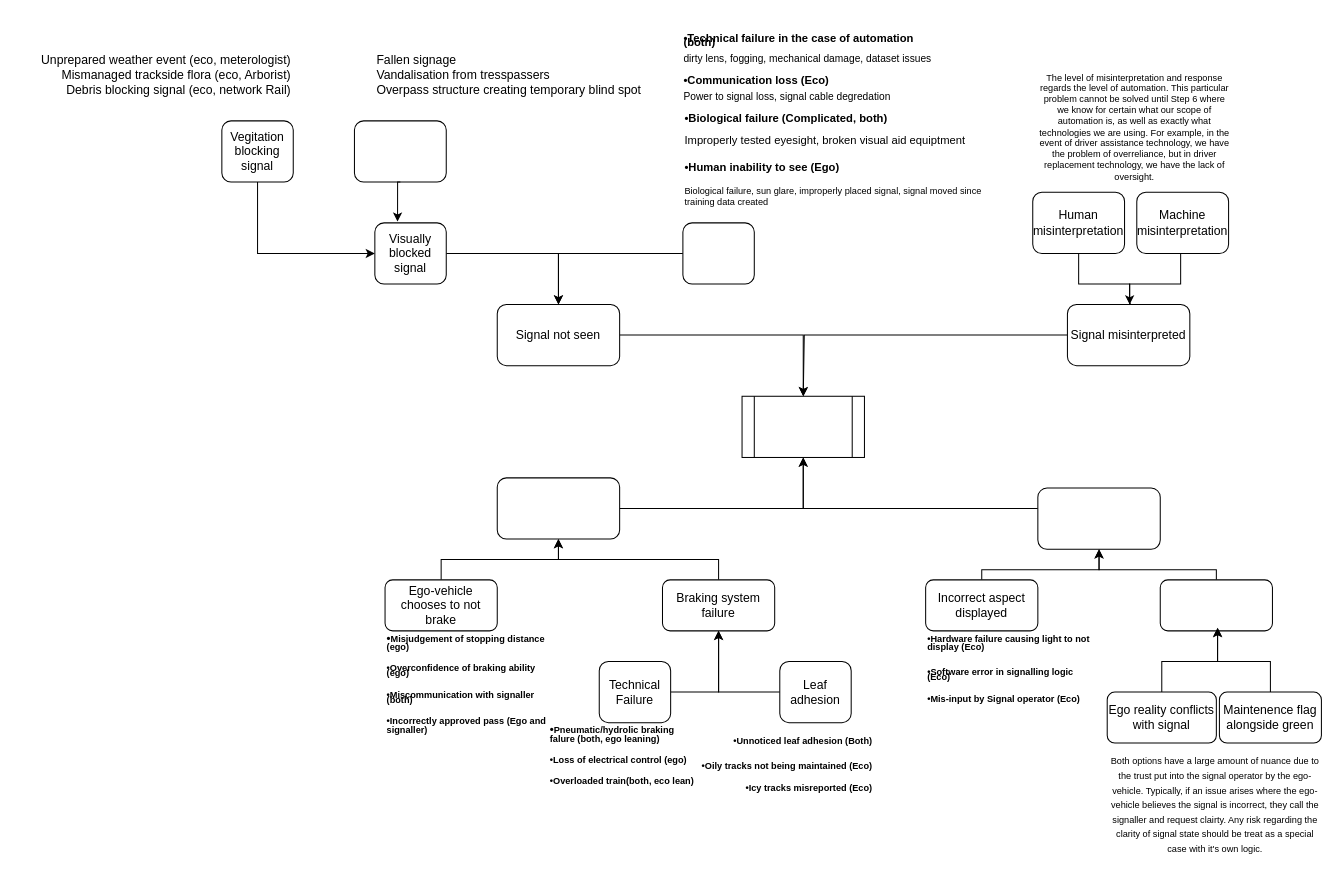
Image size: 1340x873. Some labels were removed from this diagram. The centre of each missing label's shape, as x and y in pixels:
Conflicting information given: [1215,605]
Inability to see signal: [718,253]
Non-Vegitation blocking signal: [399,151]
Signal disregarded: [558,508]
Signal Passed At Danger: [802,426]
Signal system error: [1098,518]
